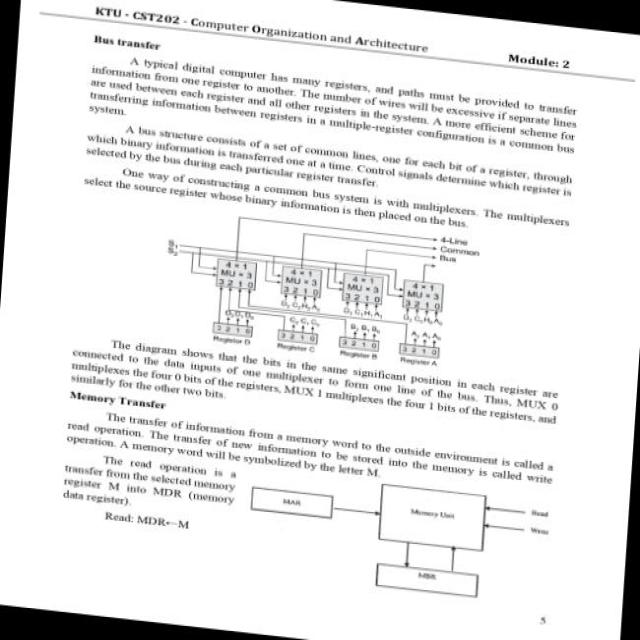Figure Detection - v3 Dataset Version2: (152, 198, 487, 377), (239, 463, 562, 616)
